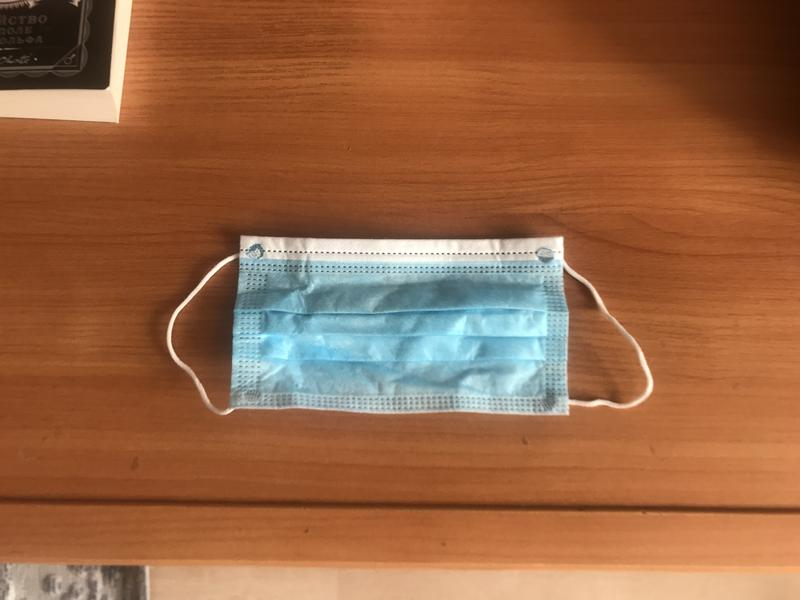medical_mask: (167, 234, 655, 420)
